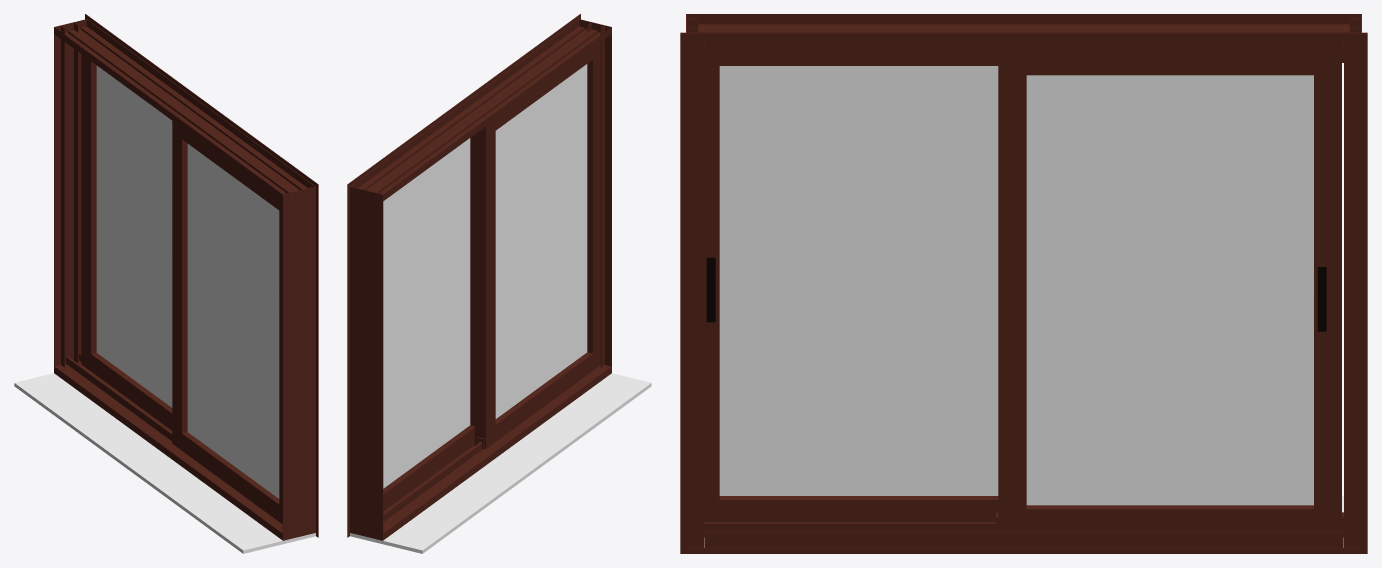
File: window_missed.glb
3 renders of one model, left to right at view 1: azimuth 30°, elevation 25°; view 2: azimuth 150°, elevation 25°; view 3: azimuth 270°, elevation 25°, orthographic. The views are drawn at different scales.
Visible parts, largest first — view 1: window_missed; view 2: window_missed; view 3: window_missed.
Boxes of the visible parts, x1,y1,x2,y2 form: window_missed: (14,14,318,553); window_missed: (347,14,651,553); window_missed: (680,14,1367,553).
Bounding box in the file's own units: 0.4984 × 2.29 × 2.74.
